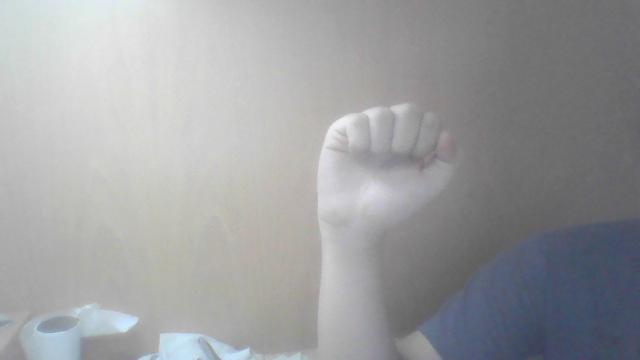forward: (315, 101, 461, 358)
